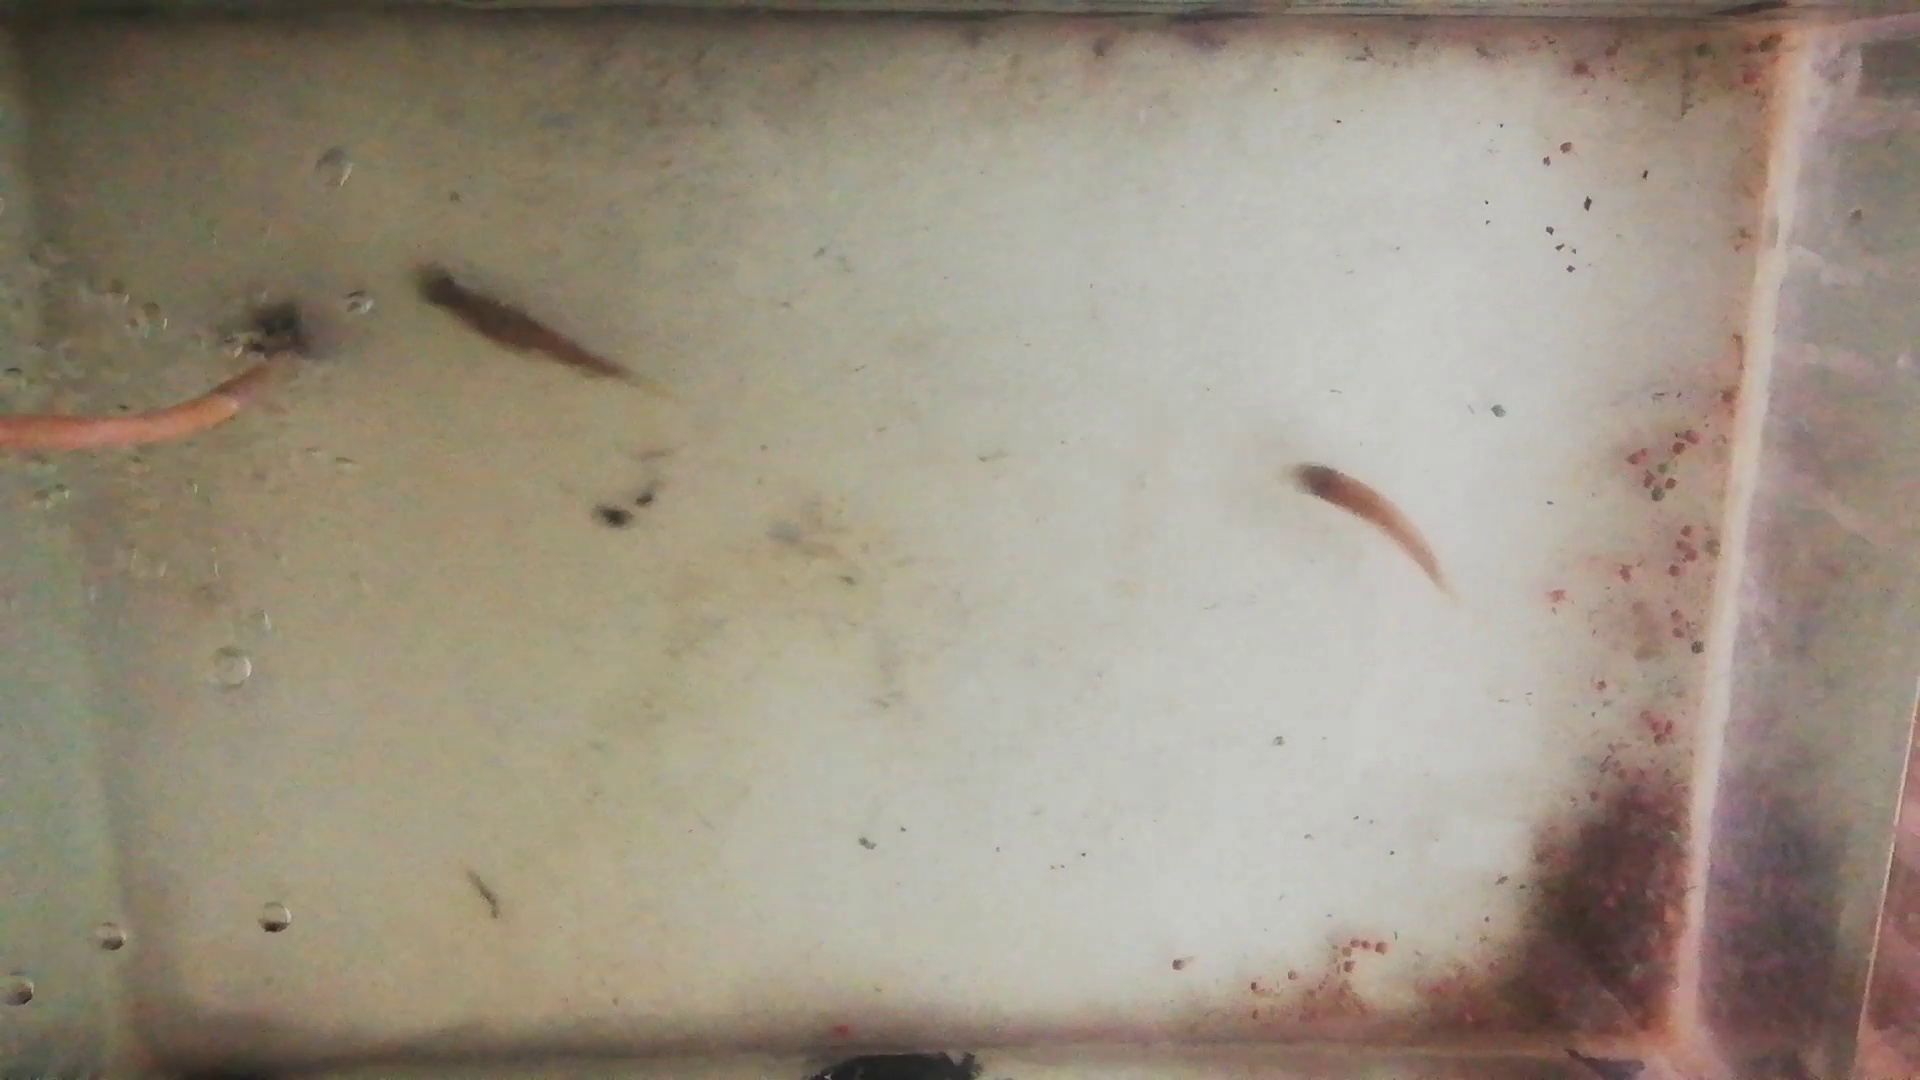fish: (410, 266, 620, 377), (1284, 460, 1448, 585)
